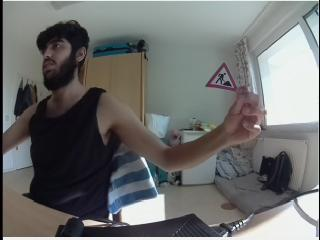construction: (206, 62, 237, 90)
